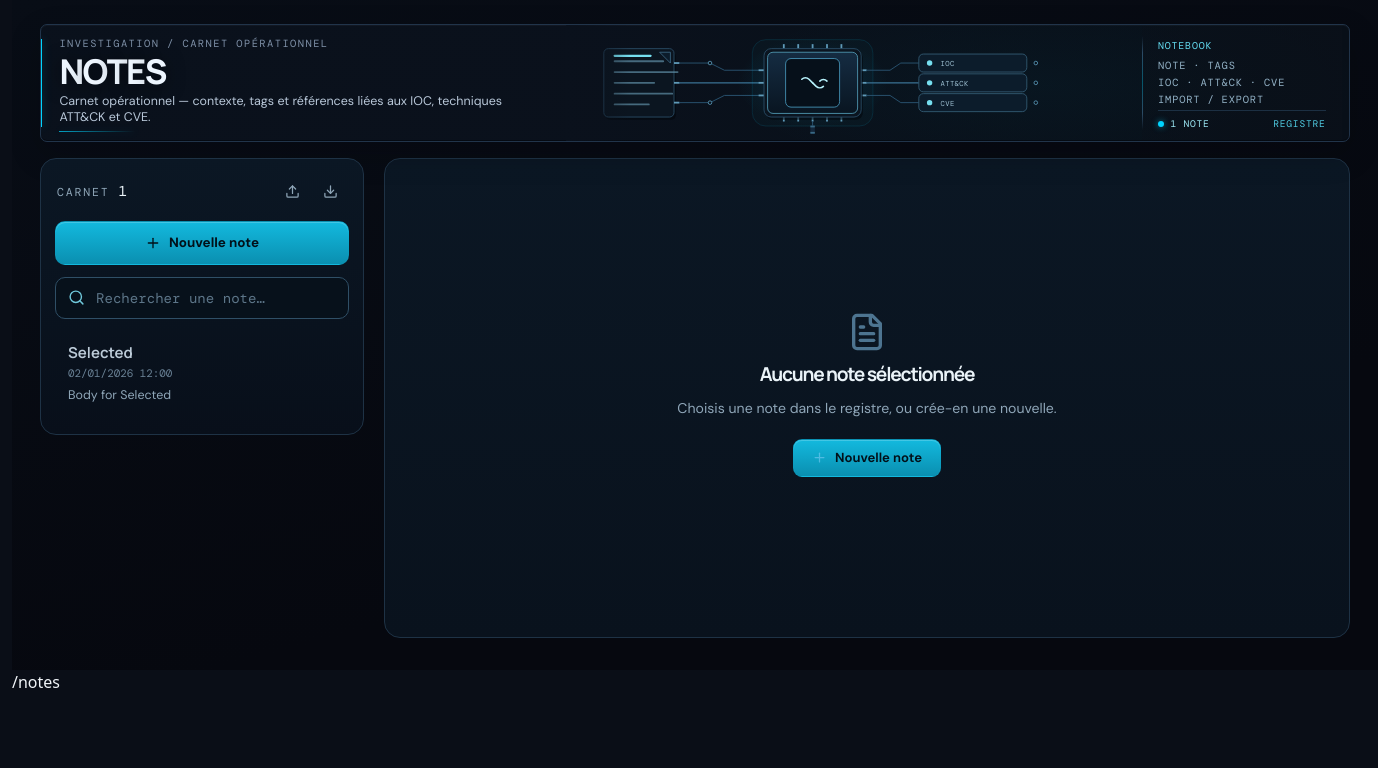
NotesPage search and register state › clears a selected note when a search result no longer contains it
Click the button "Selected 02/01/2026 12:00 Body for Selected" at (184, 374), box [55,331,313,418]
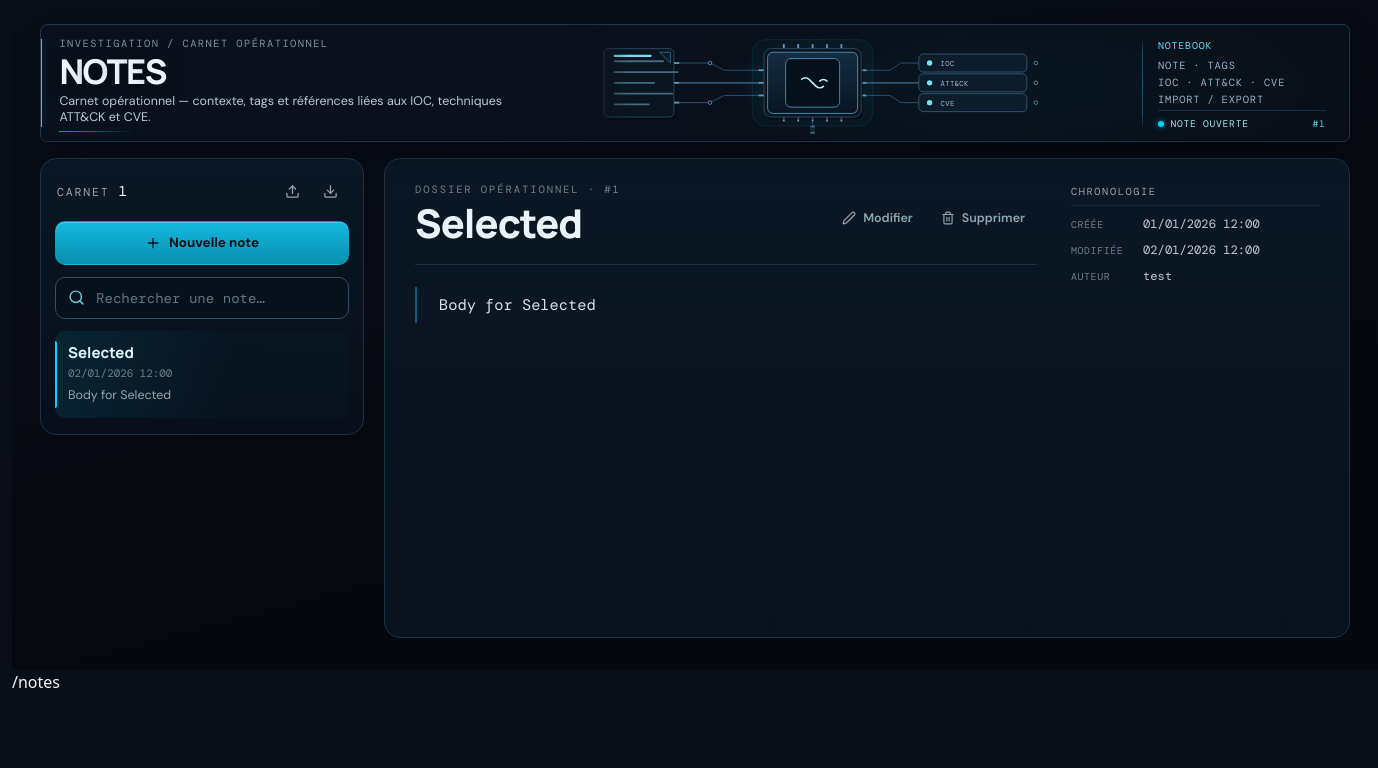
Type "other" into the search field labelled "Rechercher une note" at (202, 298), box [55,277,349,319]
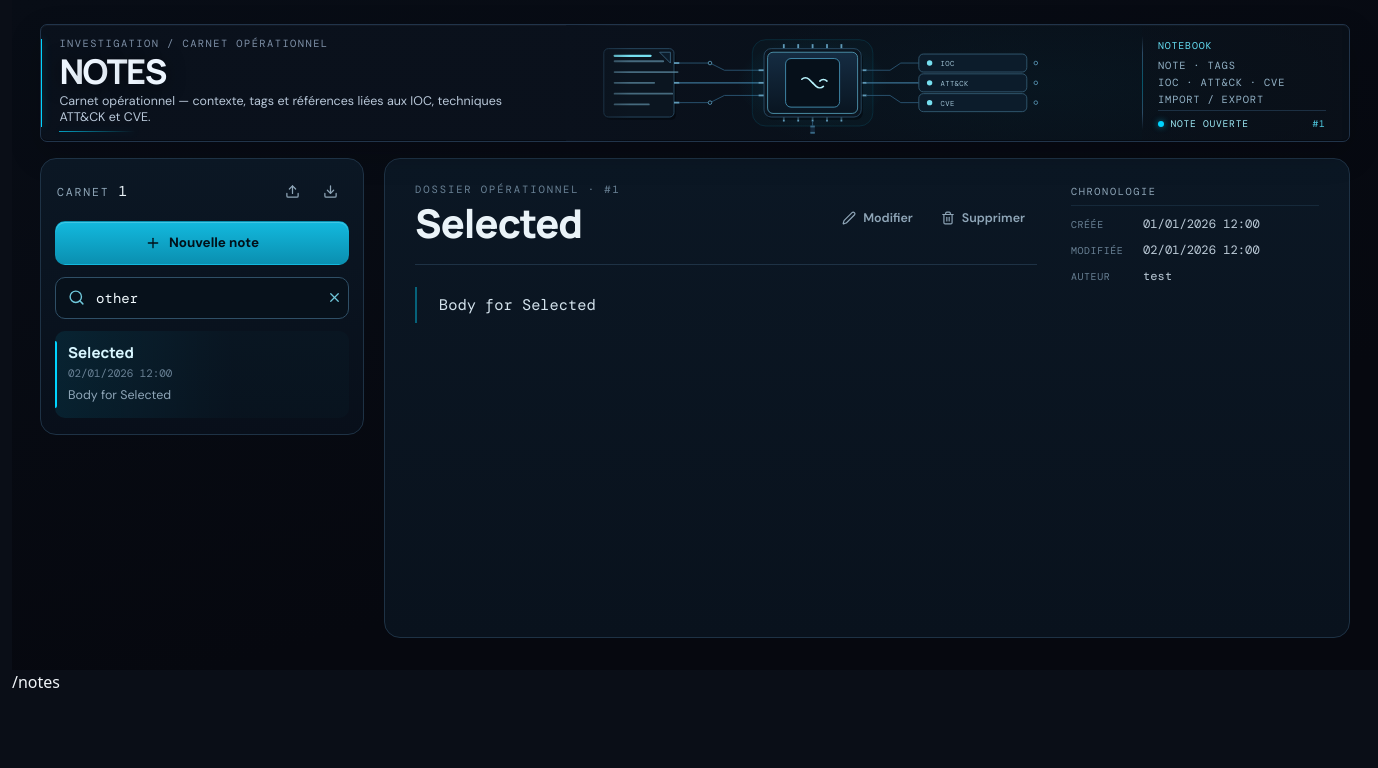
Press Enter in the search field named "Rechercher une note", box [55,277,349,319]
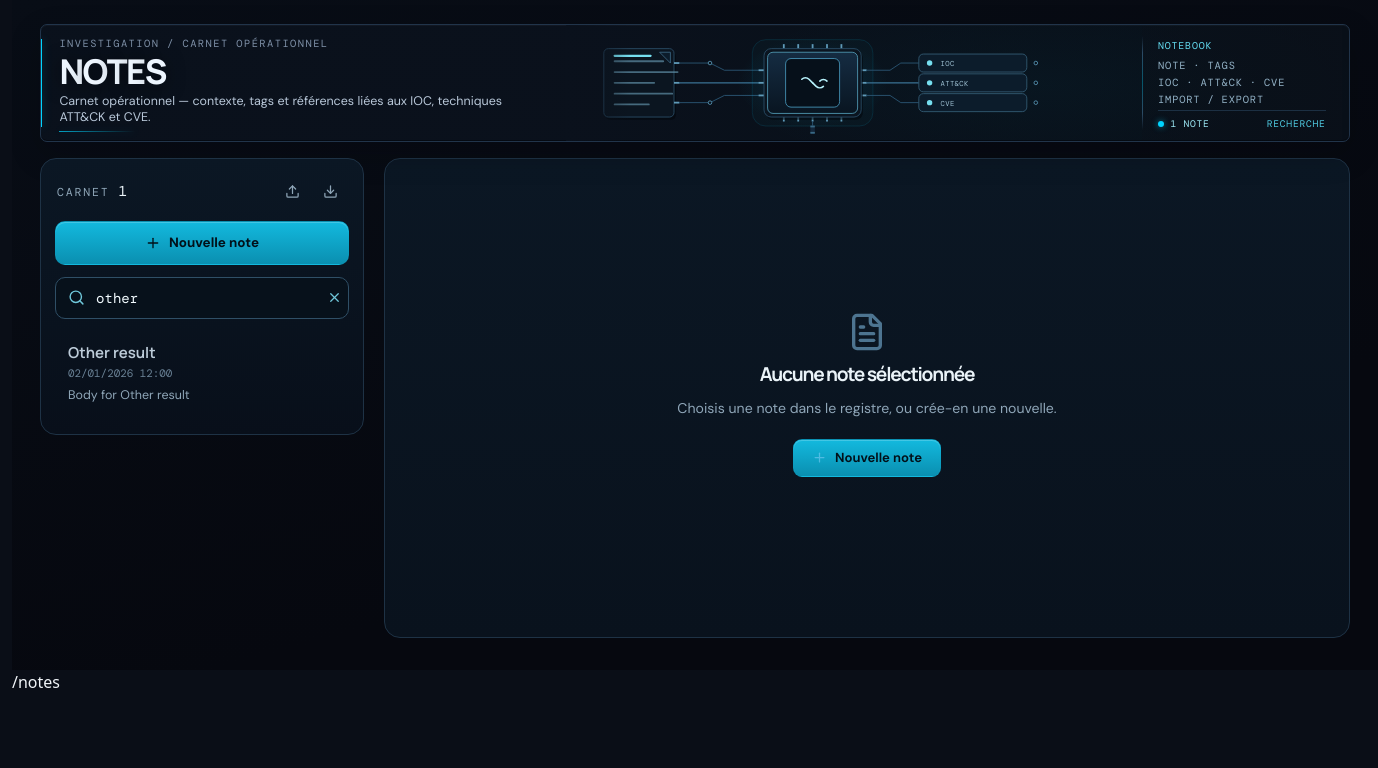
Expected: the heading "Aucune note sélectionnée" is shown, [760,362,974,387]
